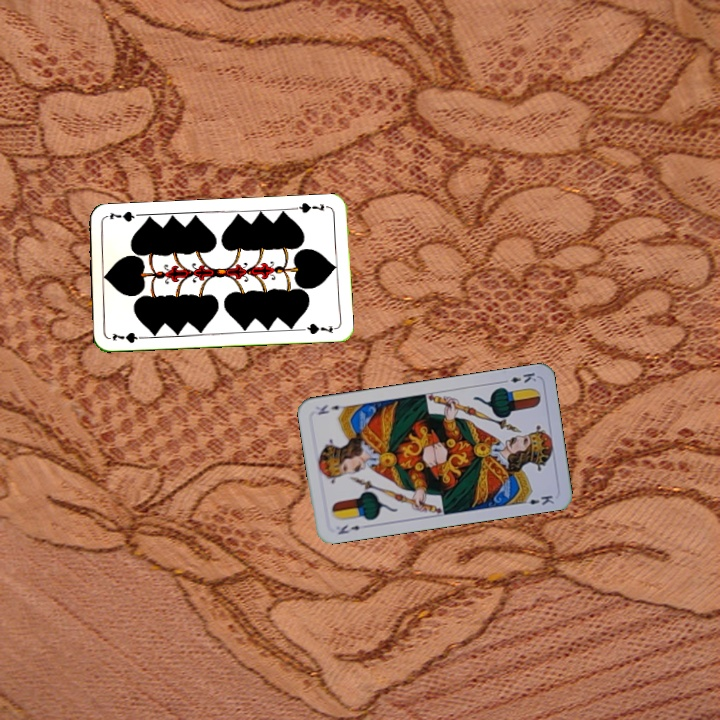EK: (498, 368, 539, 386), (334, 521, 362, 537)
G7: (108, 328, 149, 345), (291, 199, 327, 216)
